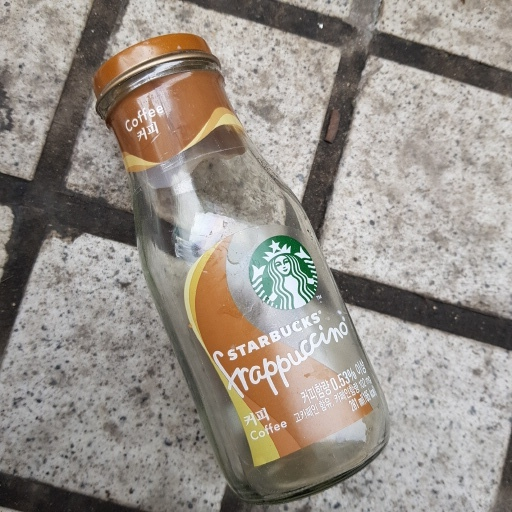Glass_4: (90, 31, 394, 502)
